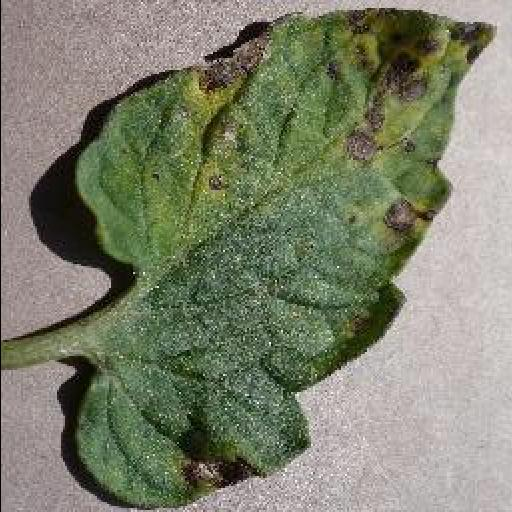disease_tomato: (68, 10, 498, 512)
